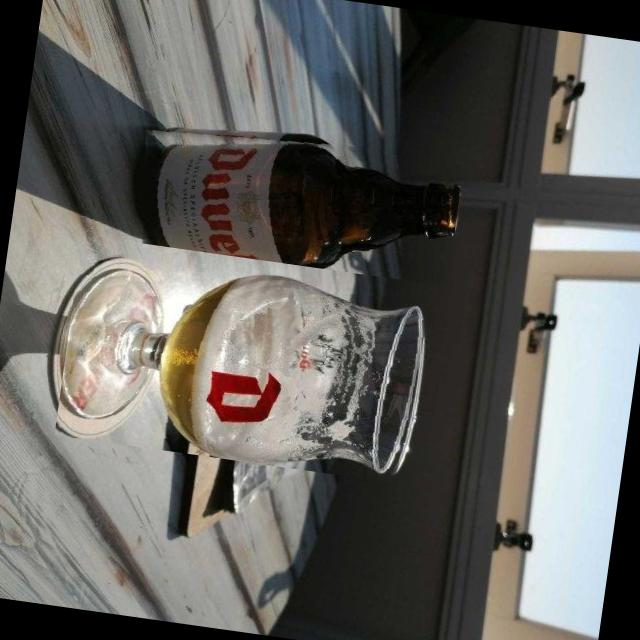Glass: (54, 246, 432, 484), (129, 111, 464, 286)
